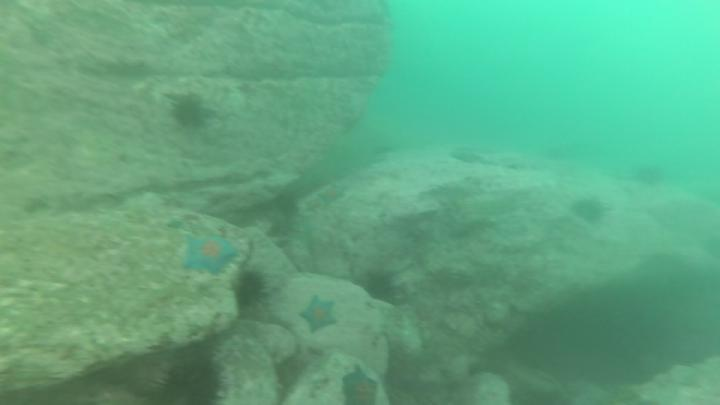echinus: (149, 357, 232, 405), (168, 93, 207, 132), (236, 269, 271, 311), (360, 270, 398, 304), (569, 194, 609, 226), (636, 162, 666, 191)
starfish: (180, 232, 241, 279), (338, 362, 384, 405), (296, 295, 341, 336), (316, 182, 350, 208)
